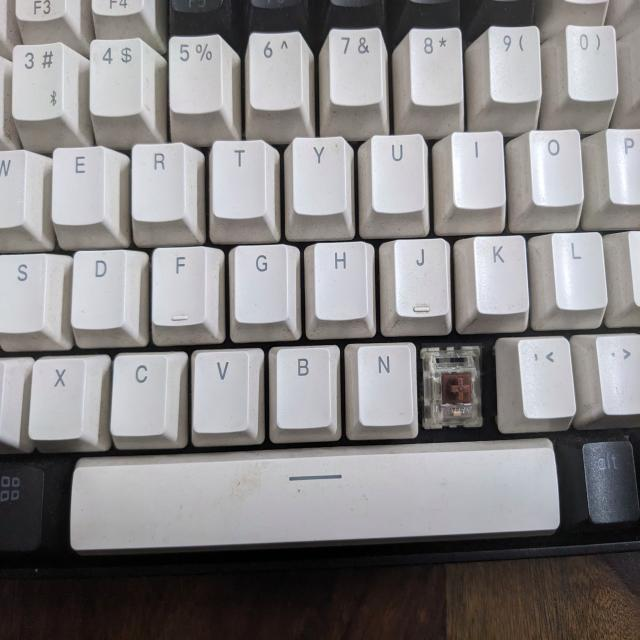C: (422, 343, 482, 427)
